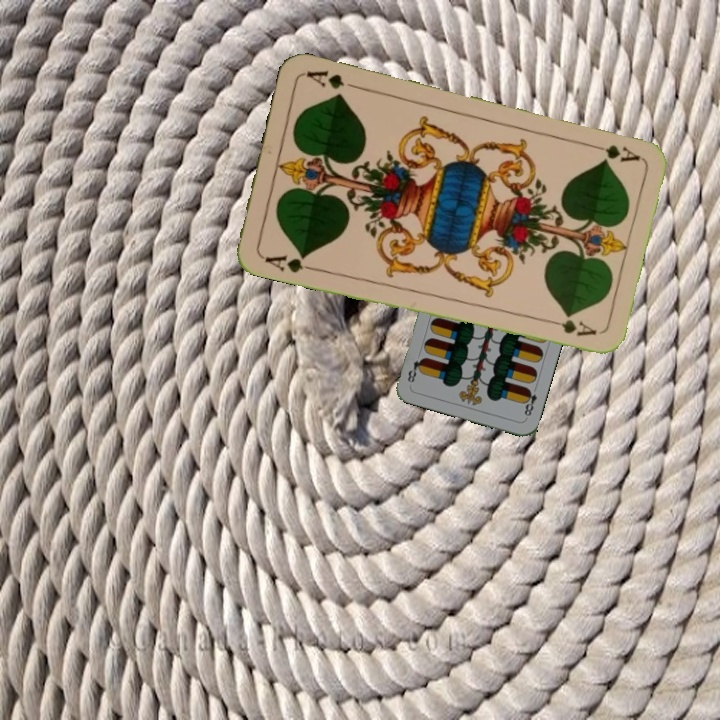E8: (520, 382, 540, 419)
GA: (584, 139, 643, 165), (259, 250, 317, 276)
